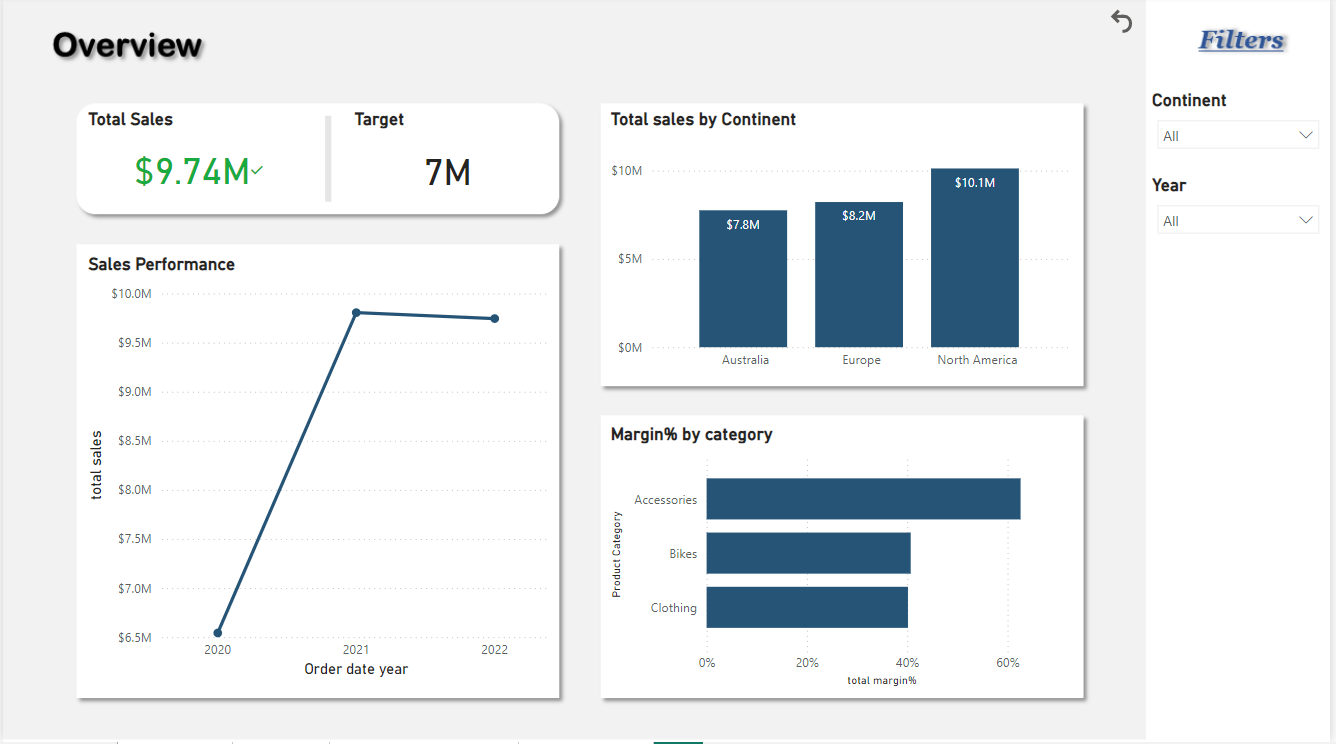

The page's visual inventory and layout, read from the dashboard file:
{"tool":"powerbi","page":{"name":"Overview","canvas":[1280,720],"ordinal":0},"visuals":[{"type":"kpi","title":"Total Sales","fields":{"Indicator":["Sales.total sales"],"TrendLine":["Order Date.Order date year"],"Goal":["Sales.Target"]},"box":[77.2,108.6,223.2,96.5],"z":0},{"type":"card","title":"Target","fields":{"Values":["Sales.Target"]},"box":[334.2,108.6,190.6,96.5],"z":1000},{"type":"clusteredColumnChart","title":"Total sales by Continent","fields":{"Category":["Sales Territory.Sales Territory Continent"],"Y":["Sales.total sales"]},"box":[581.5,108.6,453.6,260.6],"z":2000},{"type":"lineChart","title":"Sales Performance","fields":{"Y":["Sales.total sales"],"Category":["Order Date.Order_date Hierarchy.Order date year","Order Date.Order_date Hierarchy.Order date month","Order Date.Order_date Hierarchy.Order_date"]},"box":[77.2,248.5,456,413.8],"z":3000},{"type":"clusteredBarChart","title":"Margin% by category","fields":{"Category":["Product.Product Hierarchy.Product Category","Product.Product Hierarchy.Product_Subcategory"],"Y":["Sales.total margin%"]},"box":[581.5,412.6,453.6,259.4],"z":4000},{"type":"slicer","title":"Continent","fields":{"Values":["Sales Territory.Sales Territory Continent"]},"box":[1103.9,90.5,176.1,66.4],"z":5000},{"type":"slicer","title":"Year","fields":{"Values":["Order Date.Order_date Hierarchy.Order date year"]},"box":[1103.9,172.5,176.1,76],"z":6000},{"type":"actionButton","box":[1064.1,8.4,48.3,31.4],"z":7000}]}

Visuals, with their boxes in screenshot pixels (x1, y1, x2, y2), scaled from the page's 1280x720 canvas onto the 1336x744 screenshot:
"Total Sales" kpi: box=[81, 112, 314, 212]
"Target" card: box=[349, 112, 548, 212]
"Total sales by Continent" clusteredColumnChart: box=[607, 112, 1080, 382]
"Sales Performance" lineChart: box=[81, 257, 557, 684]
"Margin% by category" clusteredBarChart: box=[607, 426, 1080, 694]
"Continent" slicer: box=[1152, 94, 1335, 162]
"Year" slicer: box=[1152, 178, 1335, 257]
actionButton: box=[1111, 9, 1161, 41]
